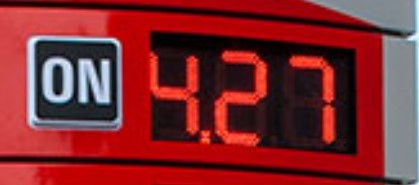digits: (139, 40, 207, 146), (281, 50, 340, 152), (212, 47, 270, 145)
